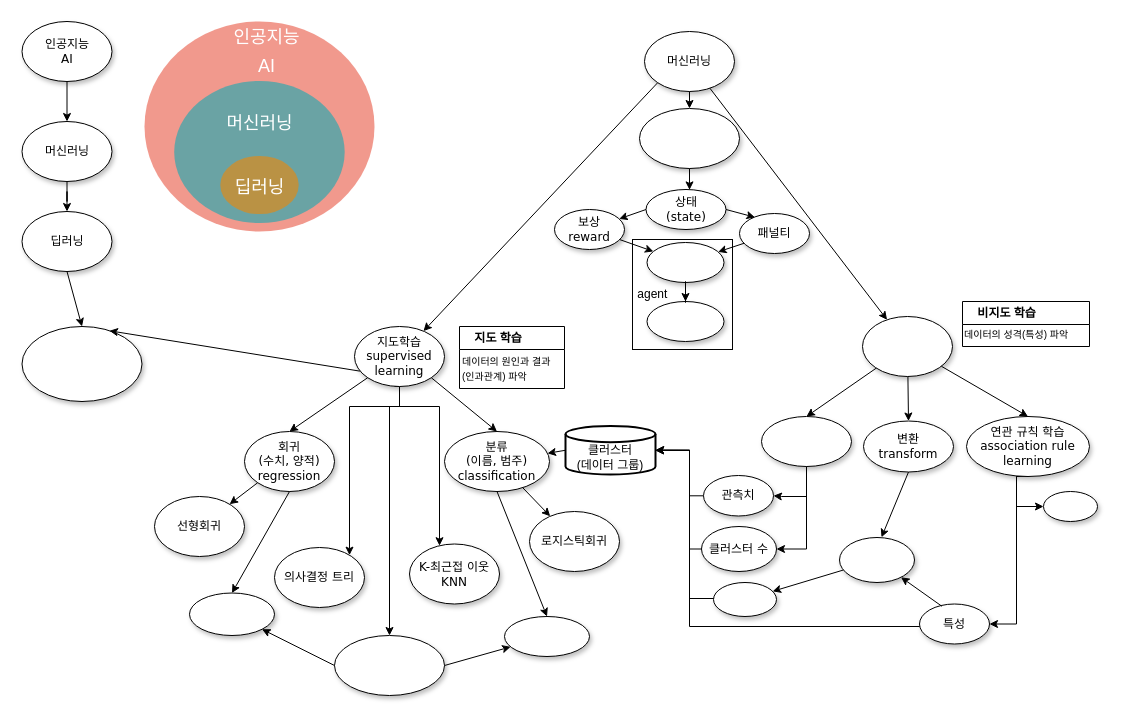
This 1121x720 diagram has some shape labels left out. Each missing label, with the centre of its shape:
"SVC" belongs at (548,638).
"SVR" belongs at (232,615).
"강화학습 reinforcement learning" belongs at (690,140).
"군집화 clustering" belongs at (807,443).
"비지도학습 unsupervised learning" belongs at (908,348).
"서포트 벡터 머신 SVM" belongs at (390,666).
"신경망 (Neural Network)" belongs at (82,365).
"정책 policy" belongs at (686,264).
"차원축소" belongs at (877,561).
"추천" belongs at (1071,507).
"필수 특성" belongs at (745,601).
"행동 (action)" belongs at (686,322).
